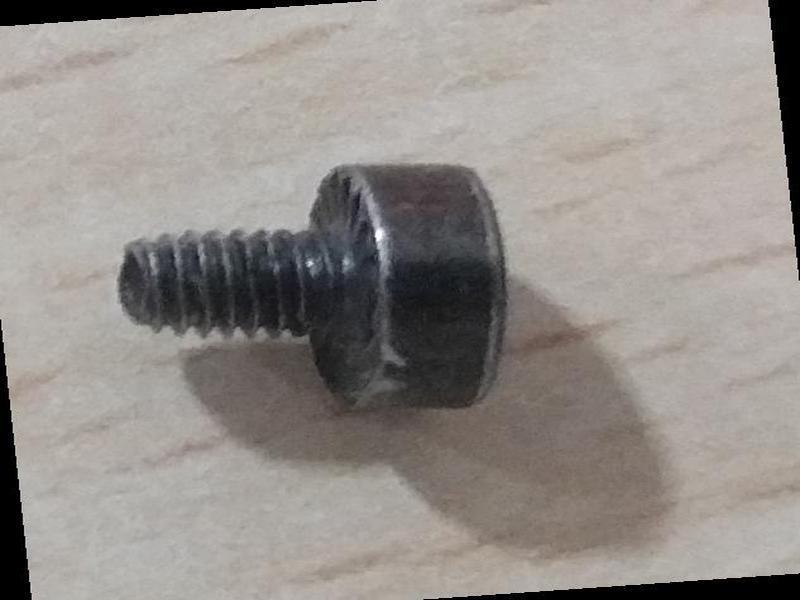verysmallscrew: (80, 134, 527, 462)
